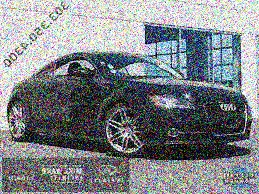car: (2, 48, 256, 167)
